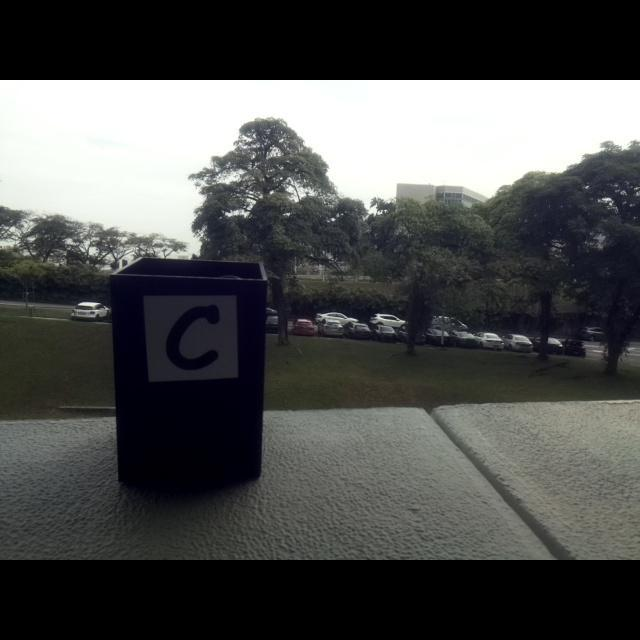C: (166, 305, 220, 372)
